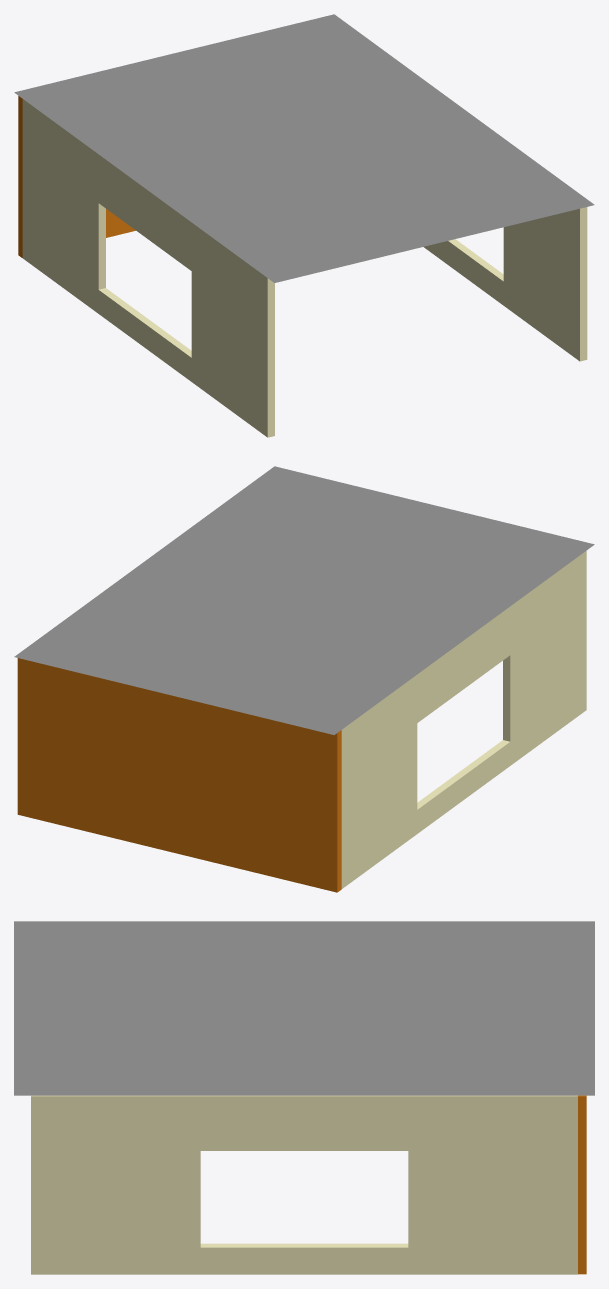
Rendered from room4_Nov18.glb.
3 views of the same model, one above another, from view 1: azimuth 30°, elevation 25°; view 2: azimuth 150°, elevation 25°; view 3: azimuth 270°, elevation 25° (orthographic). The views are drawn at different scales.
Visible parts, largest first — view 1: Plane, LeftWall, RightWall, FrontWall; view 2: Plane, FrontWall, LeftWall; view 3: Plane, RightWall, FrontWall.
Boxes of the visible parts, left/top/right/bottom form: Plane: left=14, top=14, right=594, bottom=282; LeftWall: left=22, top=99, right=274, bottom=437; RightWall: left=424, top=207, right=587, bottom=361; FrontWall: left=18, top=96, right=135, bottom=257; Plane: left=14, top=466, right=594, bottom=734; FrontWall: left=17, top=658, right=341, bottom=892; LeftWall: left=341, top=551, right=586, bottom=888; Plane: left=14, top=921, right=594, bottom=1095; RightWall: left=31, top=1095, right=577, bottom=1274; FrontWall: left=578, top=1095, right=586, bottom=1274.
Size of the model in its own units: 21.81 by 10.43 by 30.73.
